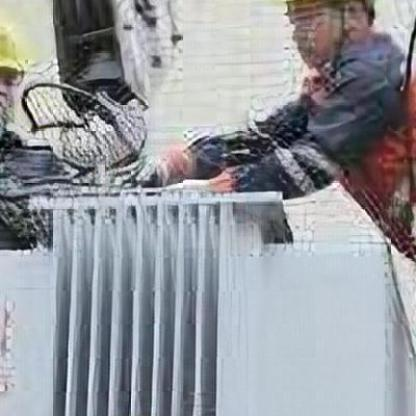hardHat: (263, 0, 395, 70), (0, 0, 36, 120)
